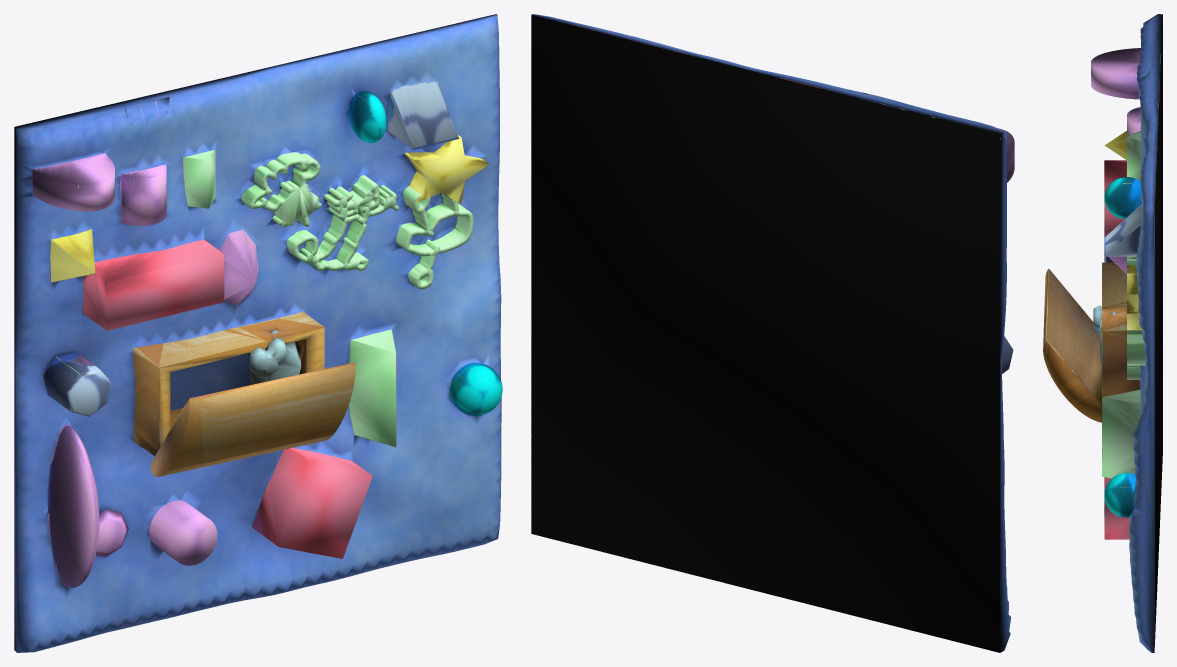
Rendered from IlePirate 1.obj.
The picture shows the model from 3 angles, left to right: view 1: azimuth 30°, elevation 25°; view 2: azimuth 150°, elevation 25°; view 3: azimuth 270°, elevation 25°; orthographic projection. The views are drawn at different scales.
Parts seen in each view (by area): view 1: Pirate_Bake_obj_0.027; view 2: Pirate_Bake_obj_0.027; view 3: Pirate_Bake_obj_0.027.
Boxes of the visible parts, left/top/right/bottom form: Pirate_Bake_obj_0.027: left=14, top=14, right=502, bottom=652; Pirate_Bake_obj_0.027: left=531, top=14, right=1014, bottom=652; Pirate_Bake_obj_0.027: left=1043, top=14, right=1162, bottom=652.
Size of the model in its own units: 3.07 by 3.2 by 0.7861.
2 materials, 2 textured.
